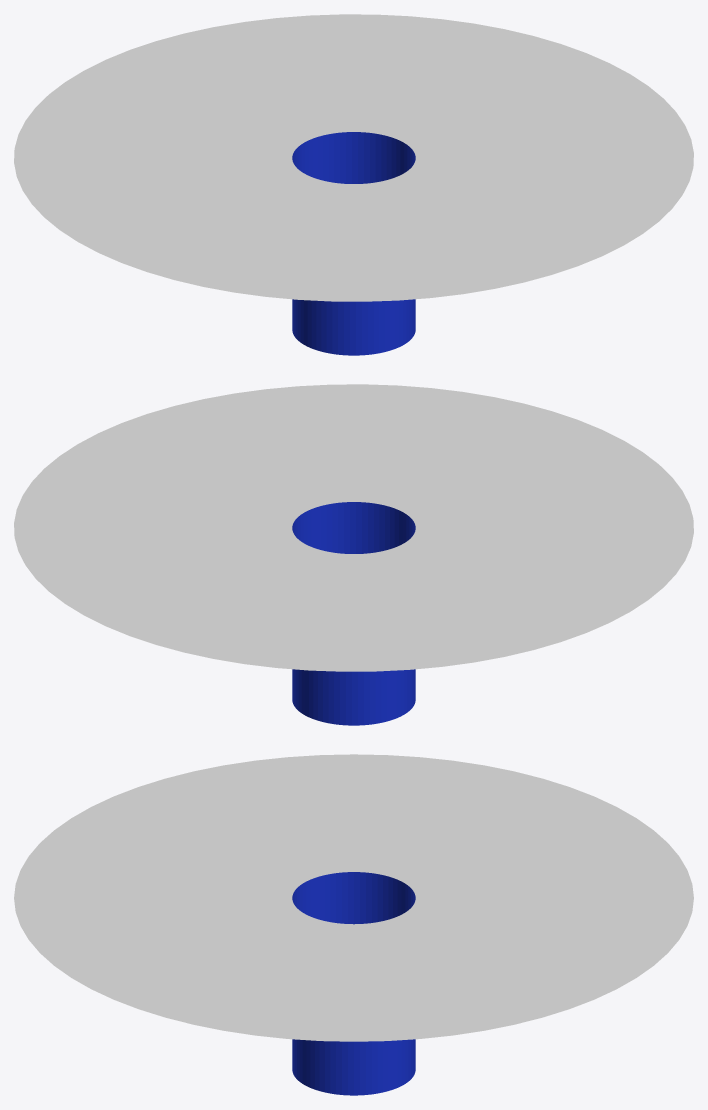
Rendered from holeSkin.fbx.
The picture shows the model from 3 angles, top to bottom: view 1: azimuth 30°, elevation 25°; view 2: azimuth 150°, elevation 25°; view 3: azimuth 270°, elevation 25°; orthographic projection.
Parts seen in each view (by area): view 1: Circle; view 2: Circle; view 3: Circle.
Boxes of the visible parts, x1,y1,x2,y2 form: Circle: [14, 14, 693, 355]; Circle: [14, 384, 693, 725]; Circle: [14, 754, 693, 1095].
Bounding box in the file's own units: 1102 × 306 × 1102.
